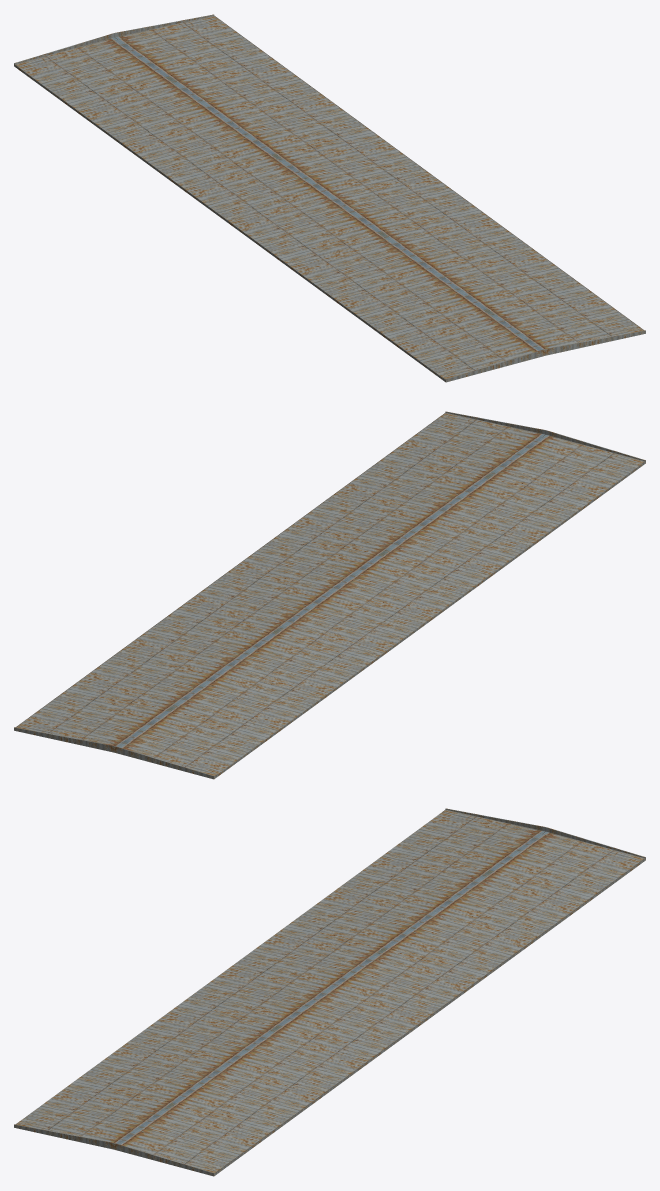
File: Factory1_Roof.fbx
3 renders of one model, top to bottom at view 1: azimuth 30°, elevation 25°; view 2: azimuth 150°, elevation 25°; view 3: azimuth 330°, elevation 25°, orthographic.
Parts seen in each view (by area): view 1: Factory1Roof01, Factory1Roof01__1_, Factory1Roof01__3_, Factory1Roof01__2_, Factory1Roof02__1_, Factory1Roof02; view 2: Factory1Roof01__2_, Factory1Roof01__1_, Factory1Roof01__3_, Factory1Roof01, Factory1Roof02, Factory1Roof02__1_; view 3: Factory1Roof01, Factory1Roof01__1_, Factory1Roof01__3_, Factory1Roof01__2_, Factory1Roof02__1_, Factory1Roof02.
Boxes of the visible parts, box(x1,y1,x2,y2) form: Factory1Roof01: box(18, 18, 323, 146); Factory1Roof01__1_: box(124, 96, 429, 223); Factory1Roof01__3_: box(230, 173, 535, 301); Factory1Roof01__2_: box(336, 251, 641, 379); Factory1Roof02__1_: box(14, 14, 217, 68); Factory1Roof02: box(442, 328, 645, 382); Factory1Roof01__2_: box(336, 415, 641, 543); Factory1Roof01__1_: box(124, 570, 429, 698); Factory1Roof01__3_: box(230, 493, 535, 620); Factory1Roof01: box(18, 648, 323, 776); Factory1Roof02: box(442, 411, 645, 465); Factory1Roof02__1_: box(14, 725, 217, 779); Factory1Roof01: box(336, 812, 641, 940); Factory1Roof01__1_: box(230, 890, 535, 1017); Factory1Roof01__3_: box(124, 967, 429, 1095); Factory1Roof01__2_: box(18, 1045, 323, 1173); Factory1Roof02__1_: box(442, 808, 645, 862); Factory1Roof02: box(14, 1122, 217, 1176).
Bounding box in the file's own units: 1961 × 83.7 × 7335.
